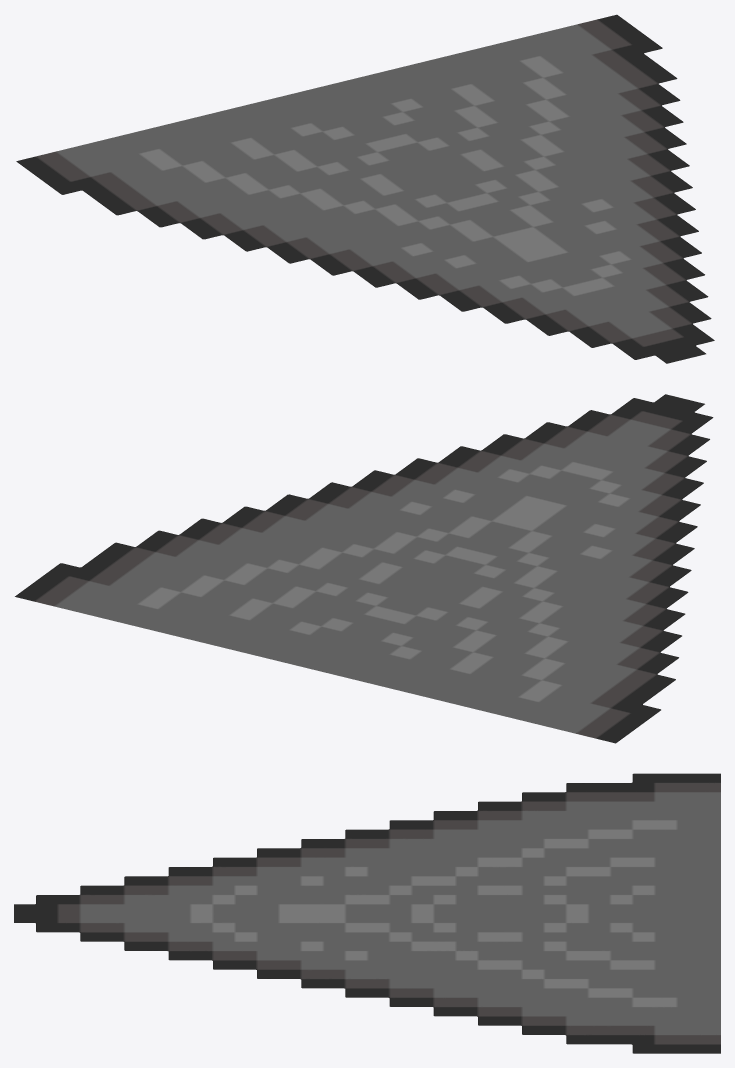
The model's file is CrackedFallingSpike.fbx.
3 renders of one model, top to bottom at view 1: azimuth 30°, elevation 25°; view 2: azimuth 150°, elevation 25°; view 3: azimuth 270°, elevation 25°, orthographic. The views are drawn at different scales.
Visible parts, largest first — view 1: FallingSpike.004, FallingSpike.008, FallingSpike.002, FallingSpike.005, FallingSpike.001, FallingSpike.006, FallingSpike.007, FallingSpike.003; view 2: FallingSpike.004, FallingSpike.008, FallingSpike.002, FallingSpike.005, FallingSpike.001, FallingSpike.006, FallingSpike.007, FallingSpike.003; view 3: FallingSpike.004, FallingSpike.008, FallingSpike.002, FallingSpike.005, FallingSpike.001, FallingSpike.006, FallingSpike.007, FallingSpike.003.
Part boxes in pixels (<box>): FallingSpike.004: <box>332,149,698,237</box>; FallingSpike.008: <box>16,108,456,197</box>; FallingSpike.002: <box>321,237,681,311</box>; FallingSpike.005: <box>337,84,686,197</box>; FallingSpike.001: <box>489,238,714,363</box>; FallingSpike.006: <box>388,14,677,108</box>; FallingSpike.007: <box>17,15,612,161</box>; FallingSpike.003: <box>86,193,336,268</box>; FallingSpike.004: <box>265,458,612,607</box>; FallingSpike.008: <box>286,608,660,742</box>; FallingSpike.002: <box>439,461,700,589</box>; FallingSpike.005: <box>136,506,528,608</box>; FallingSpike.001: <box>441,394,713,494</box>; FallingSpike.006: <box>15,542,285,646</box>; FallingSpike.007: <box>16,597,615,743</box>; FallingSpike.003: <box>530,575,688,701</box>; FallingSpike.004: <box>255,848,521,1007</box>; FallingSpike.008: <box>497,773,719,952</box>; FallingSpike.002: <box>200,829,421,969</box>; FallingSpike.005: <box>433,868,613,1034</box>; FallingSpike.001: <box>14,867,251,969</box>; FallingSpike.006: <box>566,940,720,1053</box>; FallingSpike.007: <box>614,773,720,1052</box>; FallingSpike.003: <box>361,783,624,867</box>.
Size of the model in its own units: 94.37 by 1.63e-05 by 100.
